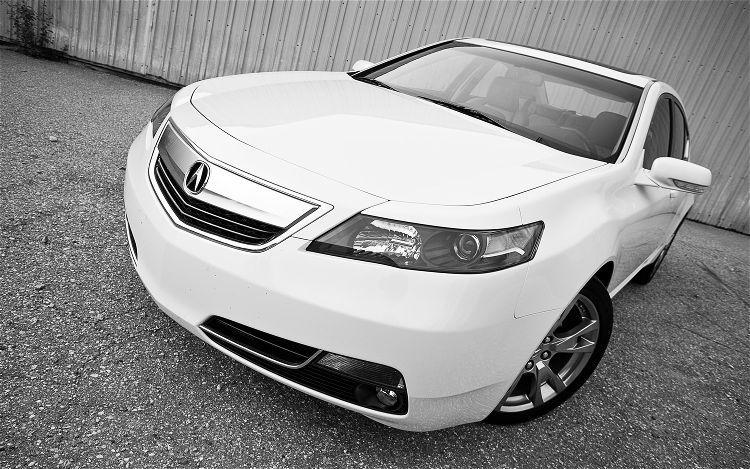car: (123, 34, 714, 436)
